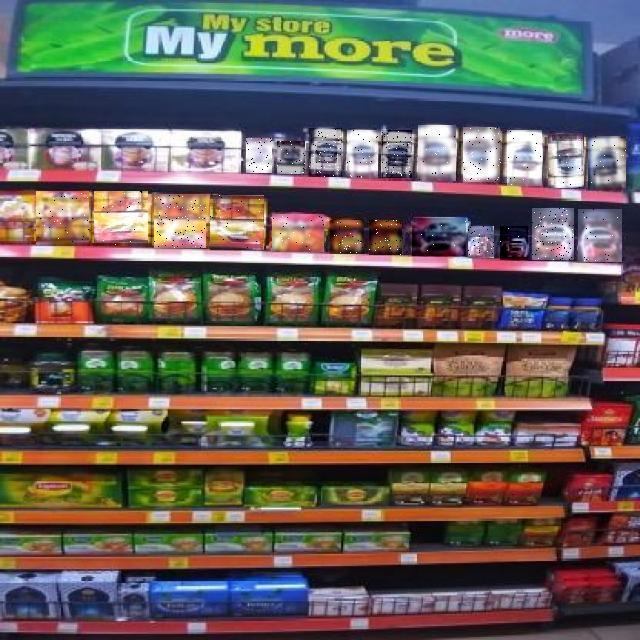Coffee: (211, 195, 265, 250), (94, 192, 148, 246), (36, 192, 89, 246), (154, 194, 206, 248), (578, 209, 622, 262), (532, 208, 574, 260), (419, 125, 457, 181), (464, 128, 502, 184), (589, 136, 627, 190), (412, 219, 466, 257), (273, 214, 325, 252), (507, 131, 542, 187), (548, 134, 584, 188), (309, 128, 342, 177), (347, 130, 378, 178), (382, 131, 412, 179), (330, 220, 364, 254), (369, 220, 402, 255), (500, 226, 528, 260), (277, 141, 305, 174), (246, 138, 272, 173), (469, 227, 495, 259)
